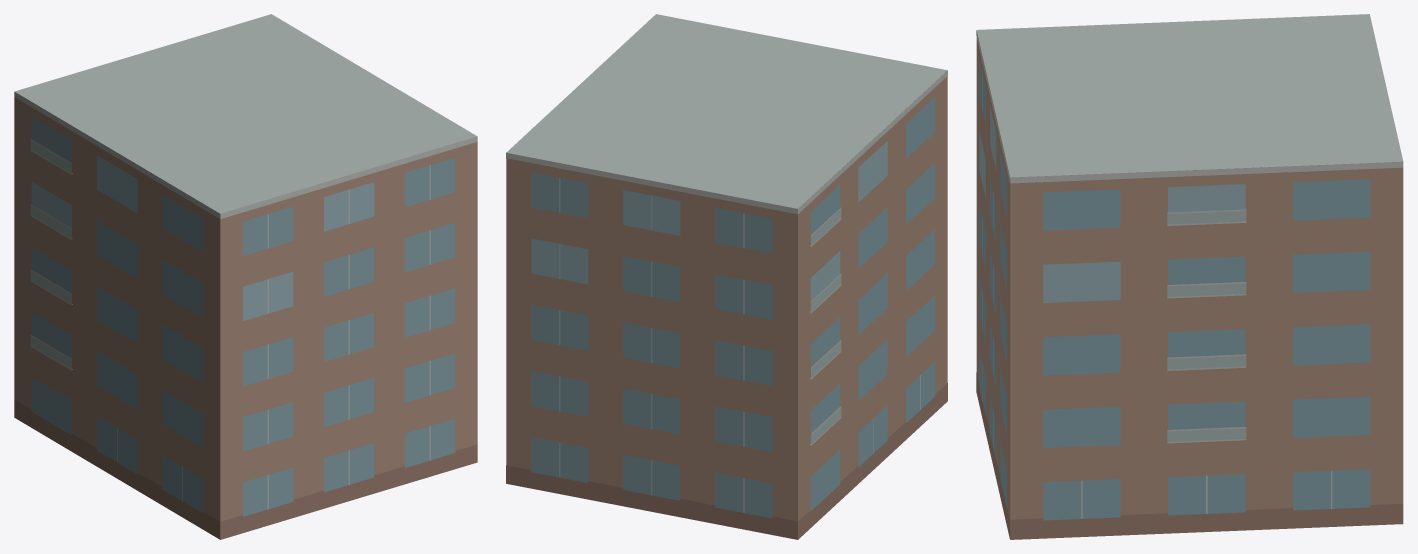
The model's file is survey-upis-32632832.glb.
3 views of the same model, side by side, from view 1: azimuth 30°, elevation 25°; view 2: azimuth 150°, elevation 25°; view 3: azimuth 270°, elevation 25° (orthographic). The views are drawn at different scales.
Parts seen in each view (by area): view 1: survey-upis-32632832.tmp; view 2: survey-upis-32632832.tmp; view 3: survey-upis-32632832.tmp.
Boxes of the visible parts, x1=… form: survey-upis-32632832.tmp: x1=14, y1=14, x2=477, y2=539; survey-upis-32632832.tmp: x1=506, y1=14, x2=947, y2=539; survey-upis-32632832.tmp: x1=976, y1=14, x2=1403, y2=539.
Bounding box in the file's own units: 14.33 × 14.8 × 15.81.
